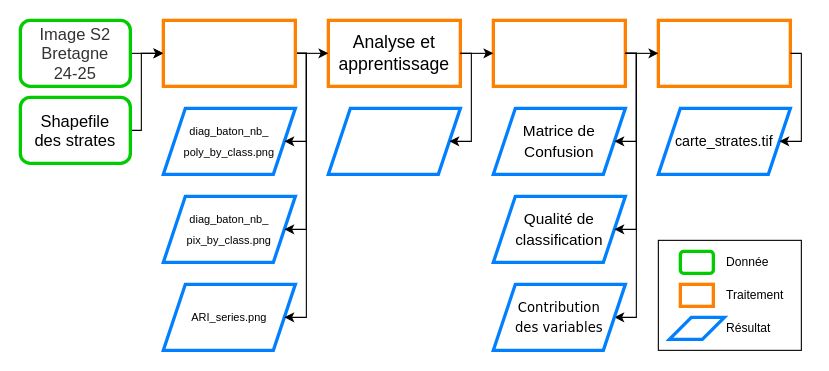
Some shapes in this 829 by 371 pixel diagram are drawn without their labels. The box of each missing label's shape, as (x1, y1, x2, y2) in pixels:
Analyse des échantillons: (161, 18, 296, 87)
Meilleurs paramètrages: (326, 106, 461, 175)
Production de la carte: (656, 18, 791, 87)
Évaluation: (491, 18, 626, 87)
